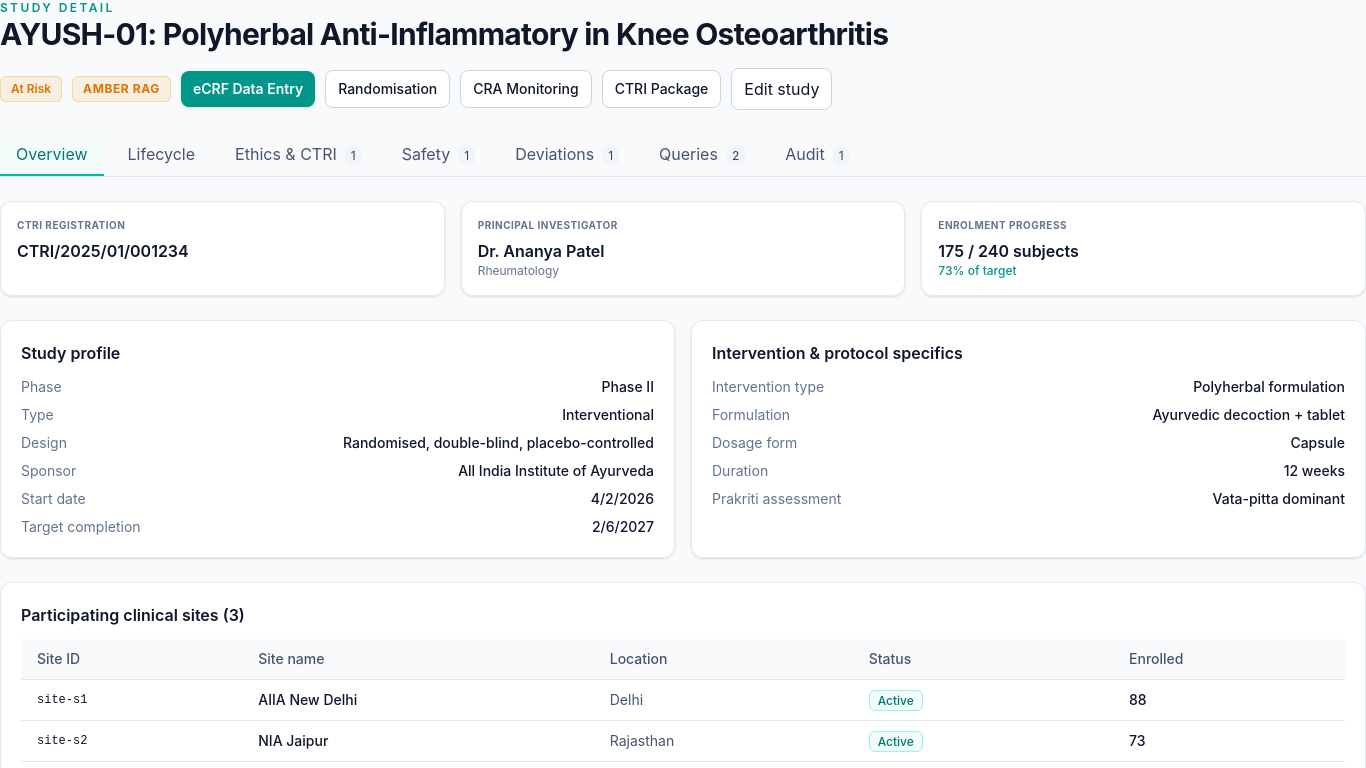
Test: study change reason dialog and study tabs › blocks saving without a reason and records a supplied reason
The image size is (1366, 768).
Click the button "Edit study" at (782, 89), box [731,68,832,110]
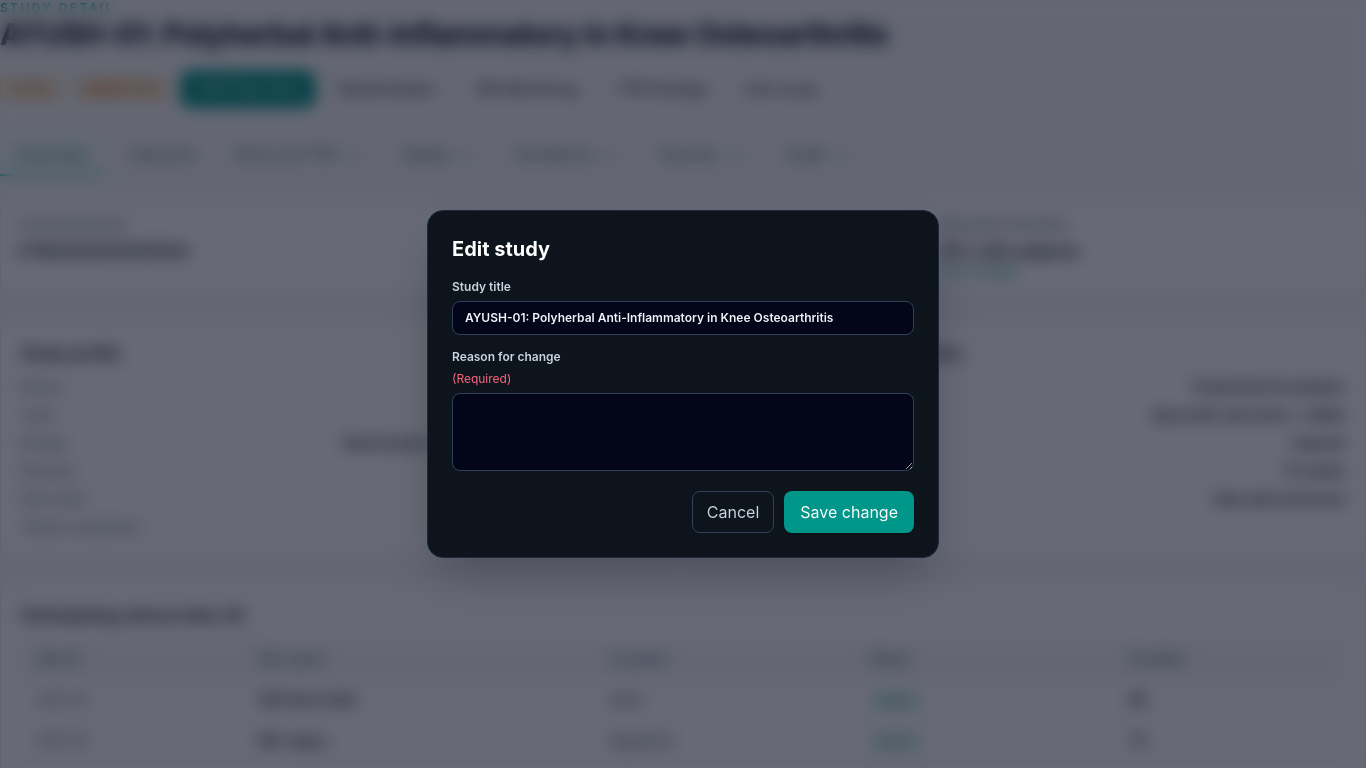
Replace the text in the field labelled "Study title" with "Updated study title" at (683, 318), box [452,301,914,335]
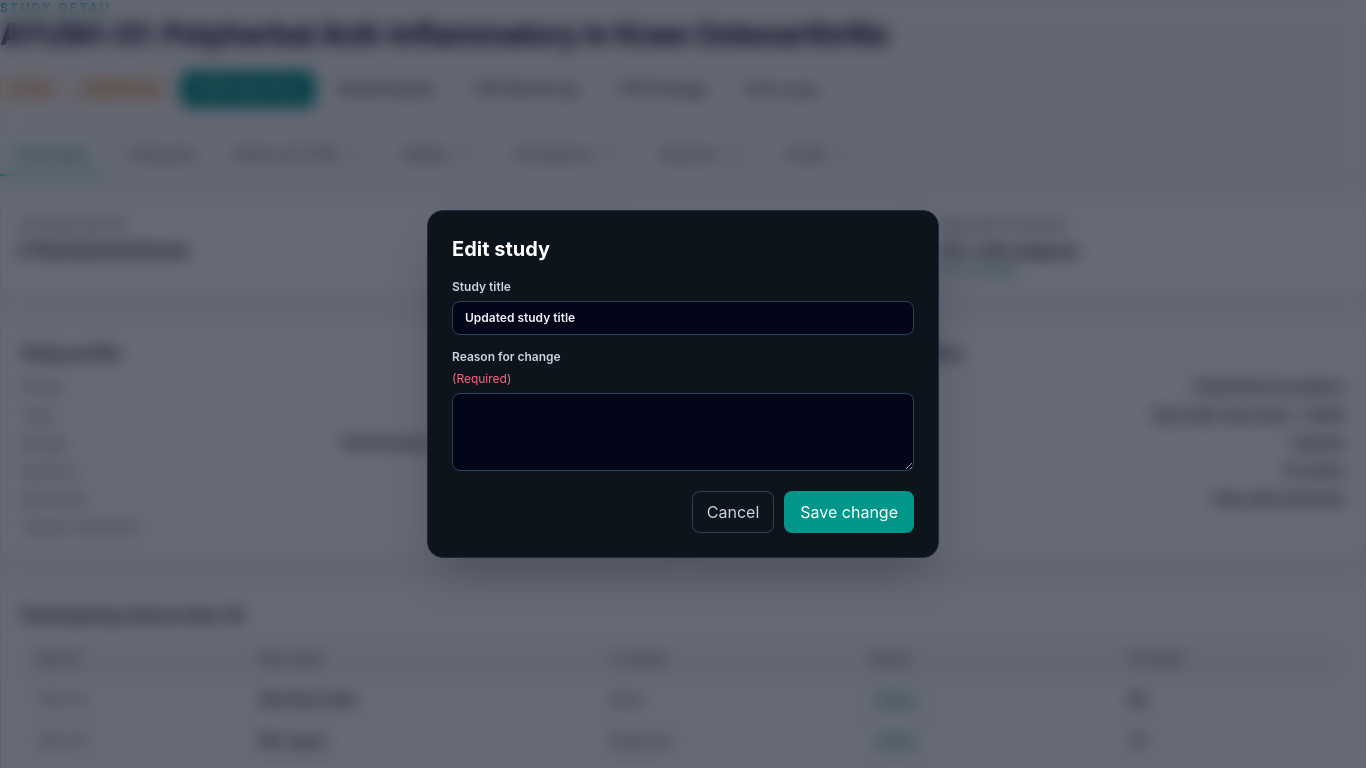
Click the button "Save change" at (849, 512), box [784,491,914,533]
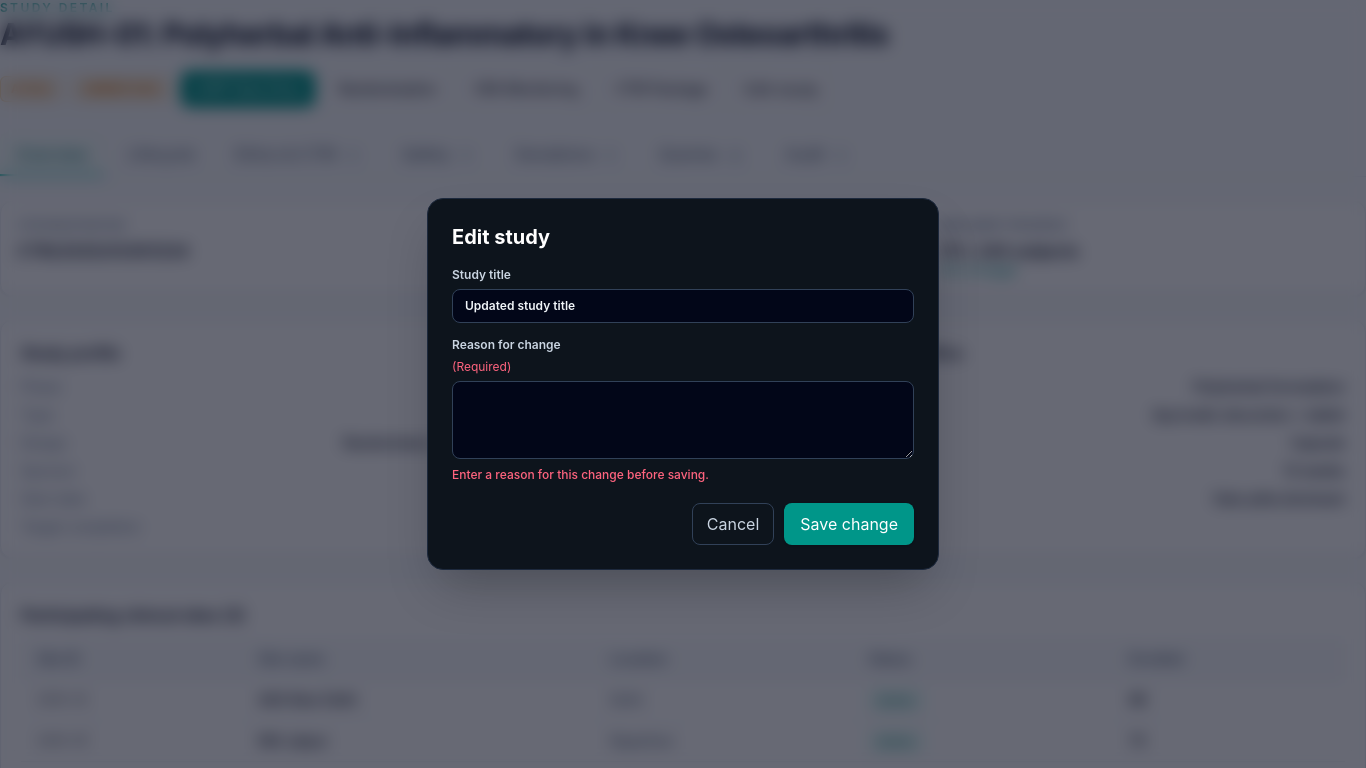
expect the message shows "Enter a reason for this change": met, box [452,467,709,482]
Type "Corrected title per approved protocol amendment" into the text box labelled "Reason for change (Required)" at (683, 420), box [452,381,914,459]
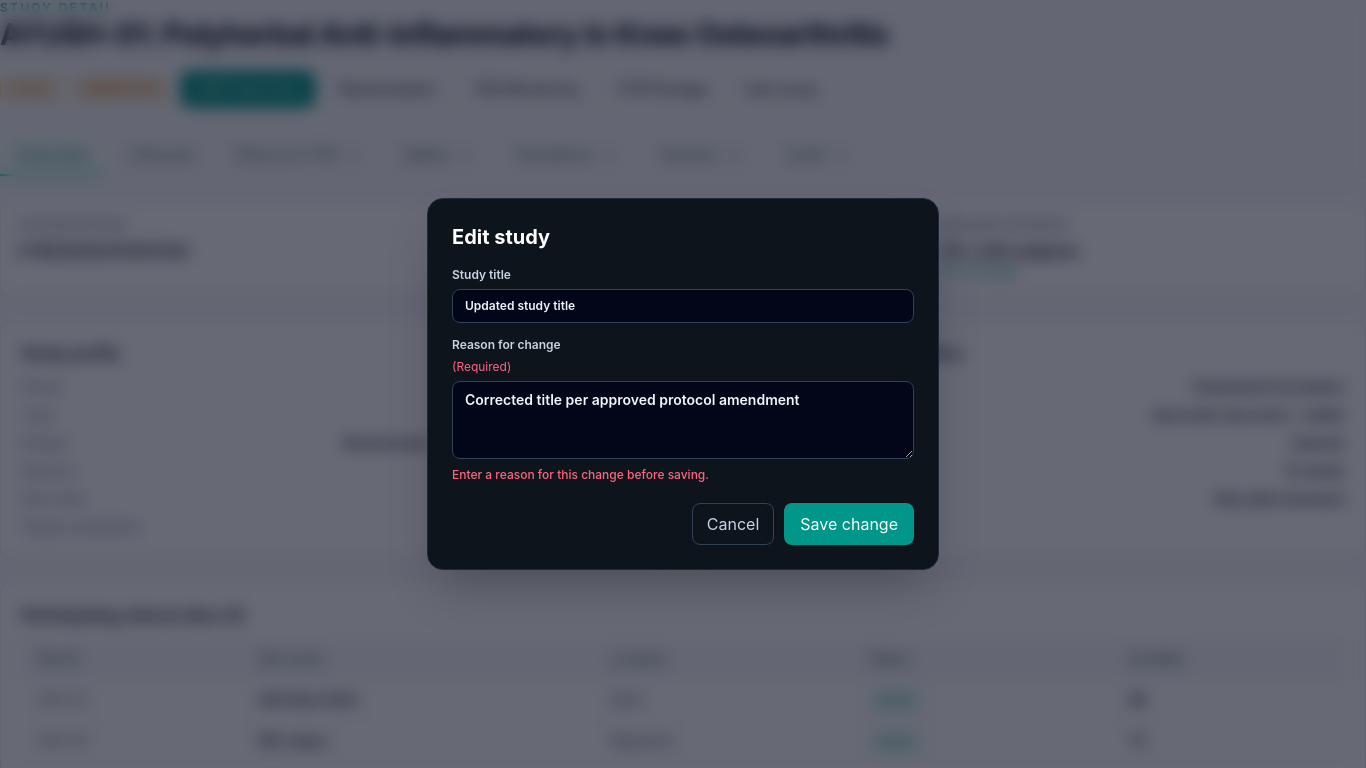
Click the button "Save change" at (849, 524), box [784,503,914,545]
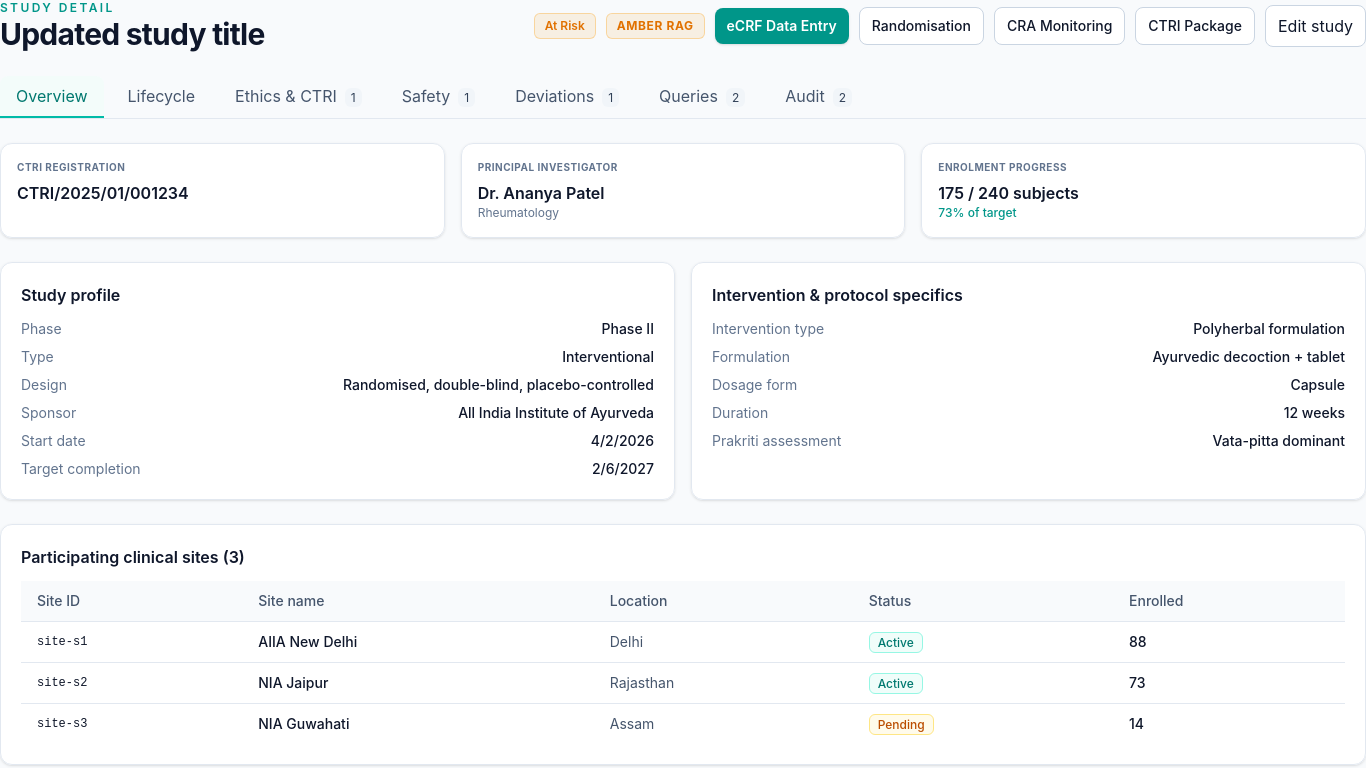
expect the heading "Updated study title" is shown: met, box [0,16,265,52]
